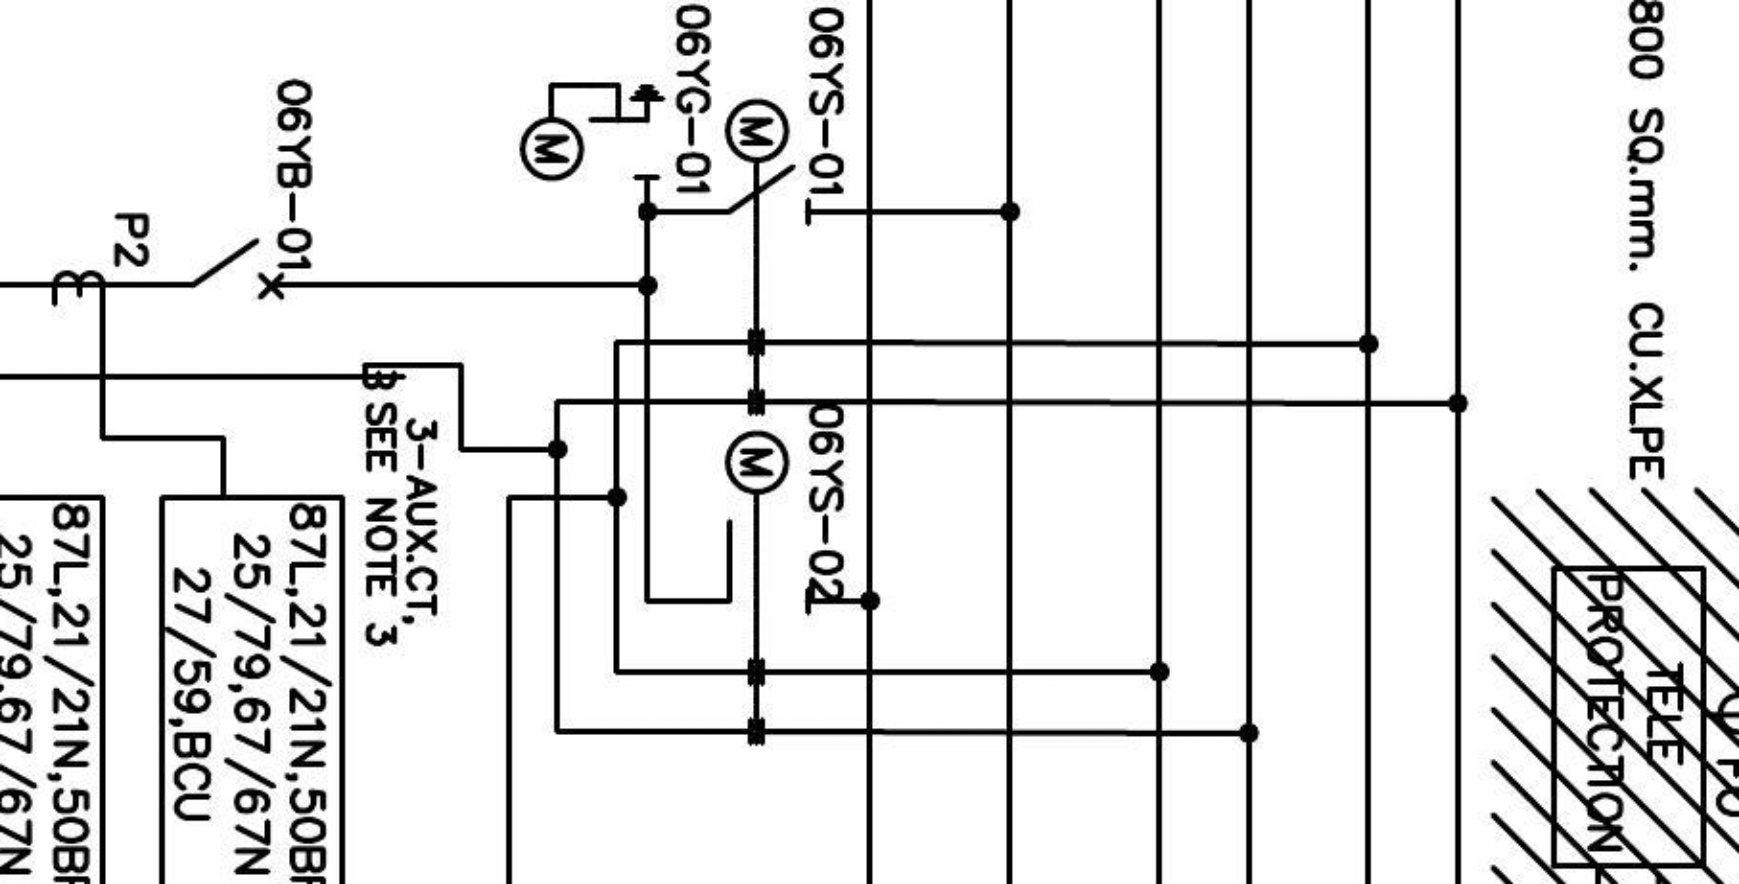115_1way_ds_w_motor: (724, 428, 813, 617), (722, 97, 813, 228)
115_breaker: (190, 236, 287, 301)
115_gs_w_motor: (518, 81, 667, 182)
tele_protection: (1545, 560, 1711, 874)
